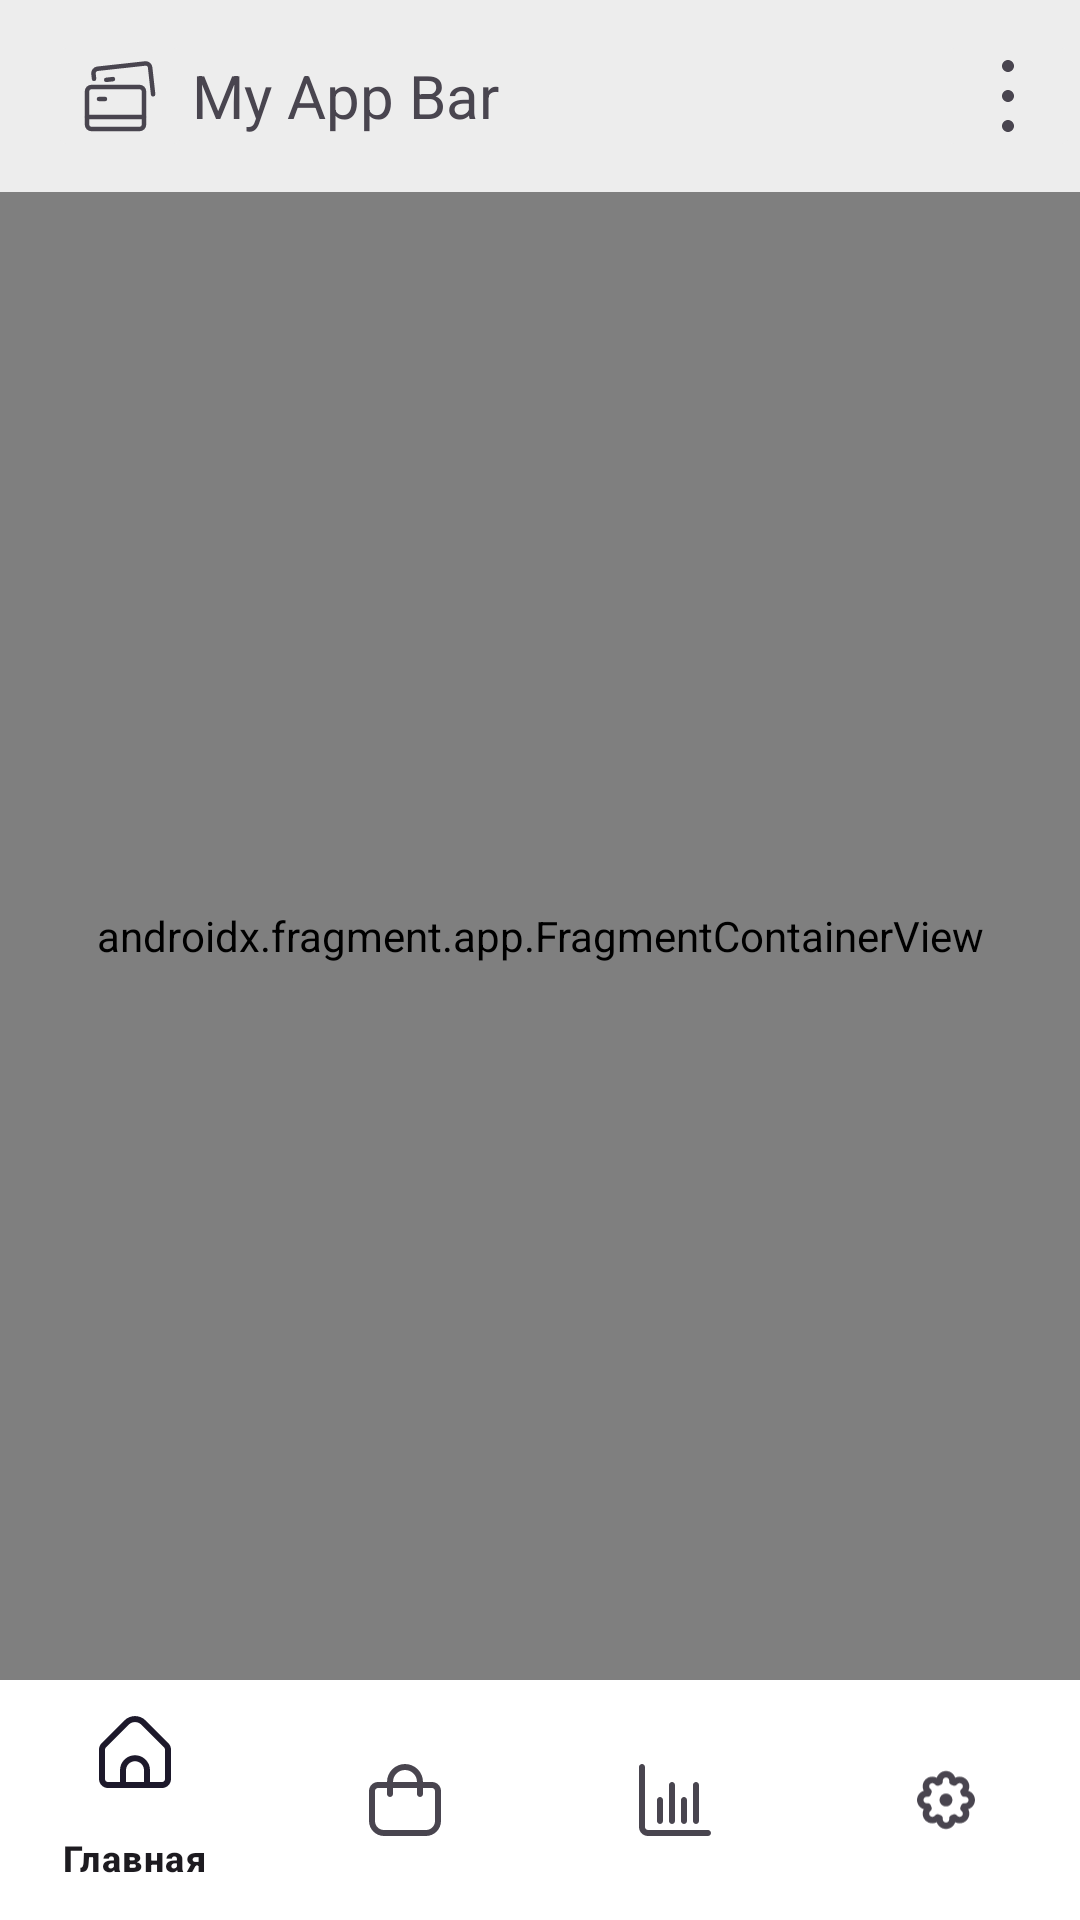

Icons on this 1080×1920 Android screen, each with its box as (x1, y1, x2, y2):
Account Selection: (84, 61, 156, 132)
Action Menu: (1002, 60, 1014, 132)
